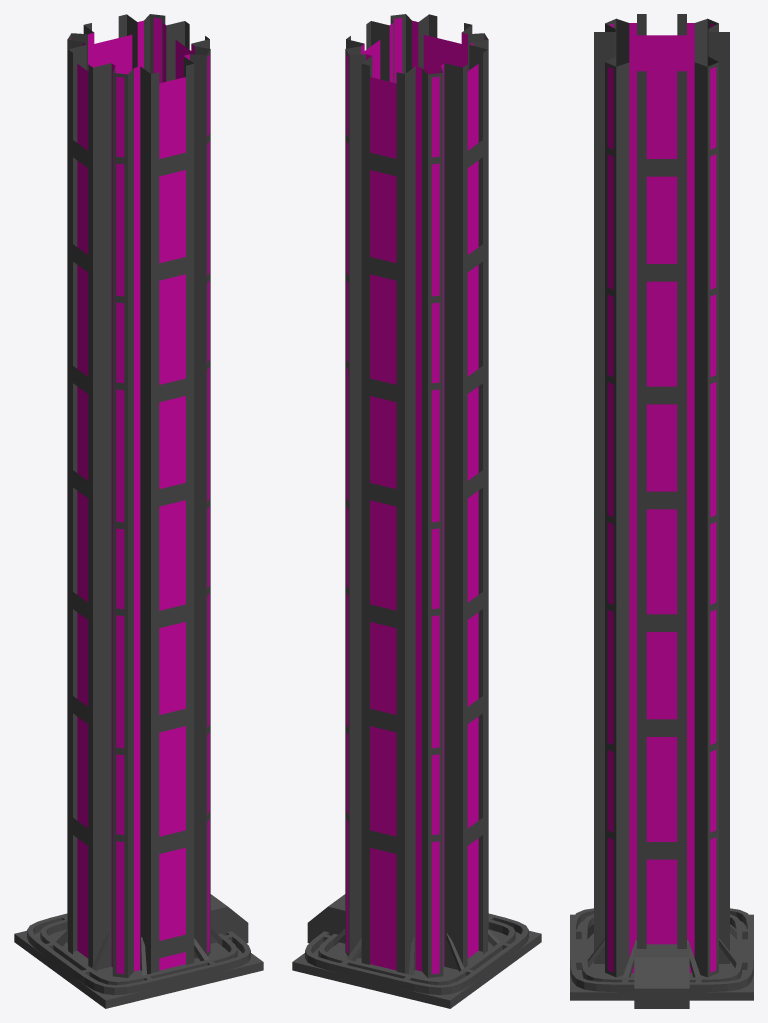
Rendered from Syphon.fbx.
The picture shows the model from 3 angles, left to right: view 1: azimuth 30°, elevation 25°; view 2: azimuth 150°, elevation 25°; view 3: azimuth 270°, elevation 25°; orthographic projection.
Parts seen in each view (by area): view 1: SolSalleCuve.001, SolSalleCuve.002; view 2: SolSalleCuve.001, SolSalleCuve.002; view 3: SolSalleCuve.001, SolSalleCuve.002.
Boxes of the visible parts, x1,y1,x2,y2 form: SolSalleCuve.001: (67,14,210,977); SolSalleCuve.002: (14,894,263,1008); SolSalleCuve.001: (345,14,488,977); SolSalleCuve.002: (292,894,541,1008); SolSalleCuve.001: (594,14,729,977); SolSalleCuve.002: (570,908,753,1008).
Size of the model in its own units: 394 by 357 by 1968.
